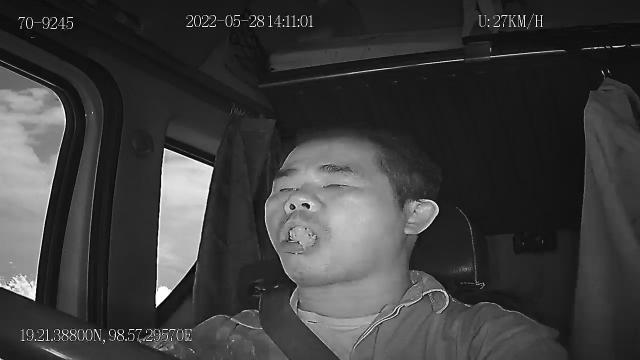SafeDriving: (313, 160, 365, 199)
Seatbelt: (262, 290, 342, 360)
